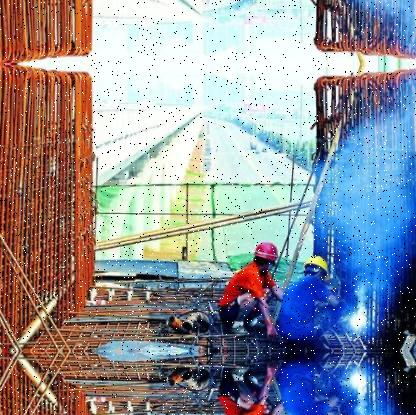helmet: (254, 238, 282, 268), (304, 254, 333, 280)
